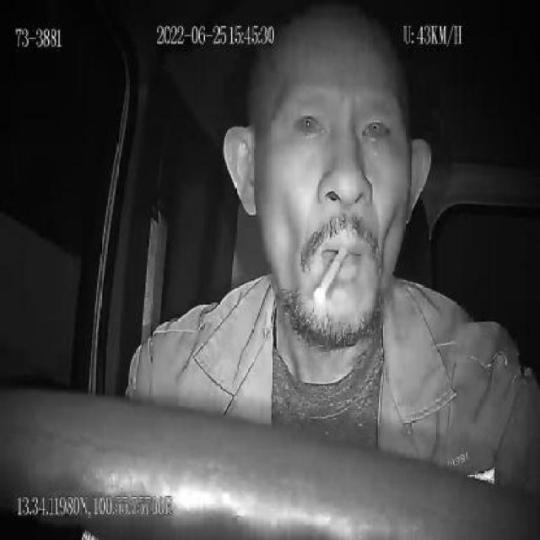smoking: (316, 248, 346, 304)
